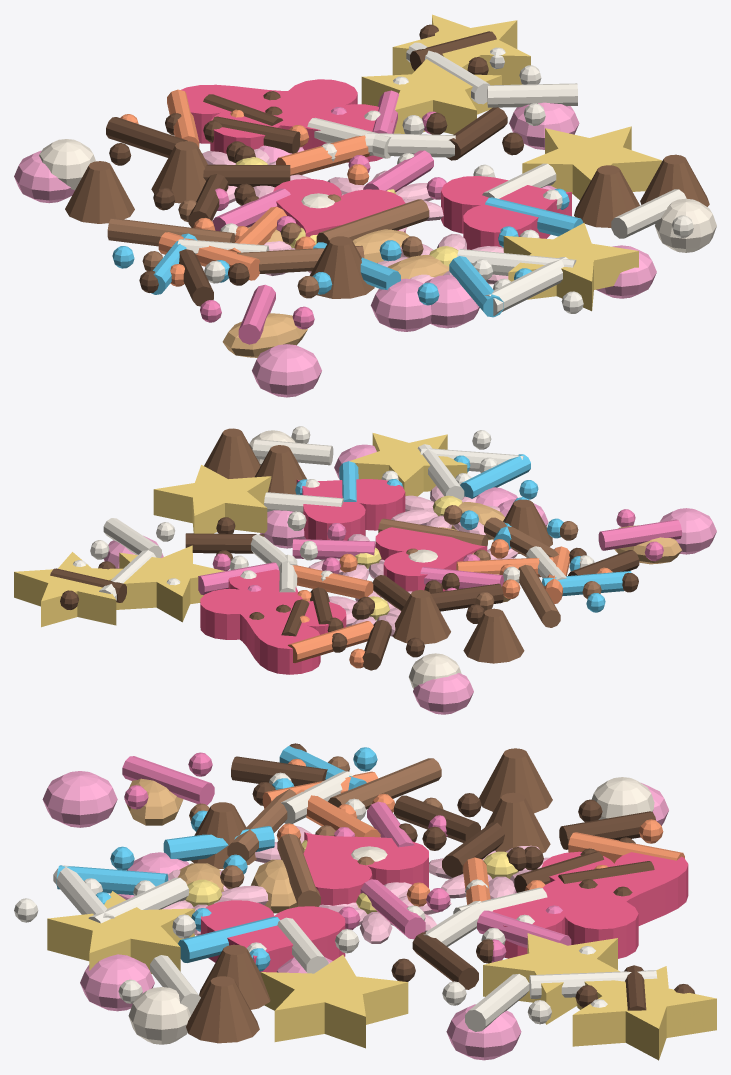
The model's file is toppings_square_4_tier.glb.
3 views of the same model, one above another, from view 1: azimuth 30°, elevation 25°; view 2: azimuth 150°, elevation 25°; view 3: azimuth 270°, elevation 25° (orthographic). The views are drawn at different scales.
Visible parts, largest first — view 1: ToppingHeart_square_4_03, ToppingStar_square_4_00, ToppingStar_square_4_01, ToppingStar_square_4_03, ToppingStar_square_4_02, ToppingHeart_square_4_01, ToppingHeart_square_4_02, ToppingHeart_square_4_00, ToppingChocolateChip_square_4_02, ToppingDot_square_4_00, ToppingChocolateChip_square_4_00, ToppingChocolateChip_square_4_01 (+44 smaller); view 2: ToppingStar_square_4_00, ToppingStar_square_4_02, ToppingHeart_square_4_03, ToppingStar_square_4_03, ToppingHeart_square_4_00, ToppingHeart_square_4_02, ToppingHeart_square_4_01, ToppingStar_square_4_01, ToppingChocolateChip_square_4_02, ToppingChocolateChip_square_4_03, ToppingChocolateChip_square_4_04, ToppingDot_square_4_07 (+41 smaller); view 3: ToppingStar_square_4_00, ToppingStar_square_4_02, ToppingStar_square_4_01, ToppingHeart_square_4_01, ToppingHeart_square_4_02, ToppingHeart_square_4_03, ToppingStar_square_4_03, ToppingHeart_square_4_00, ToppingChocolateChip_square_4_04, ToppingDot_square_4_00, ToppingPearlCandy_square_4_02, ToppingChocolateChip_square_4_02 (+46 smaller).
Boxes of the visible parts, <box> form: ToppingHeart_square_4_03: <box>441,176,571,249</box>; ToppingStar_square_4_00: <box>522,126,662,199</box>; ToppingStar_square_4_01: <box>503,223,638,311</box>; ToppingStar_square_4_03: <box>361,59,501,134</box>; ToppingStar_square_4_02: <box>392,14,530,84</box>; ToppingHeart_square_4_01: <box>273,178,405,236</box>; ToppingHeart_square_4_02: <box>265,79,392,162</box>; ToppingHeart_square_4_00: <box>181,84,297,153</box>; ToppingChocolateChip_square_4_02: <box>65,161,134,223</box>; ToppingDot_square_4_00: <box>252,344,321,397</box>; ToppingChocolateChip_square_4_00: <box>574,165,639,227</box>; ToppingChocolateChip_square_4_01: <box>310,236,374,298</box>; ToppingStar_square_4_00: <box>153,465,271,533</box>; ToppingStar_square_4_02: <box>14,552,122,627</box>; ToppingHeart_square_4_03: <box>296,479,405,540</box>; ToppingStar_square_4_03: <box>116,545,224,622</box>; ToppingHeart_square_4_00: <box>235,601,346,674</box>; ToppingHeart_square_4_02: <box>200,569,310,639</box>; ToppingHeart_square_4_01: <box>375,527,487,591</box>; ToppingStar_square_4_01: <box>349,433,467,496</box>; ToppingChocolateChip_square_4_02: <box>463,608,524,663</box>; ToppingChocolateChip_square_4_03: <box>392,590,450,644</box>; ToppingChocolateChip_square_4_04: <box>204,428,260,478</box>; ToppingDot_square_4_07: <box>413,673,473,714</box>; ToppingStar_square_4_00: <box>260,954,408,1048</box>; ToppingStar_square_4_02: <box>572,966,716,1060</box>; ToppingStar_square_4_01: <box>47,891,194,973</box>; ToppingHeart_square_4_01: <box>303,832,428,905</box>; ToppingHeart_square_4_02: <box>492,873,638,958</box>; ToppingHeart_square_4_03: <box>200,900,345,972</box>; ToppingStar_square_4_03: <box>483,933,619,1024</box>; ToppingHeart_square_4_00: <box>541,851,688,925</box>; ToppingChocolateChip_square_4_04: <box>186,976,259,1043</box>; ToppingDot_square_4_00: <box>42,771,117,827</box>; ToppingPearlCandy_square_4_02: <box>128,987,190,1044</box>; ToppingChocolateChip_square_4_02: <box>479,748,552,813</box>.
Size of the model in its own units: 0.7719 by 0.0993 by 0.8051.
